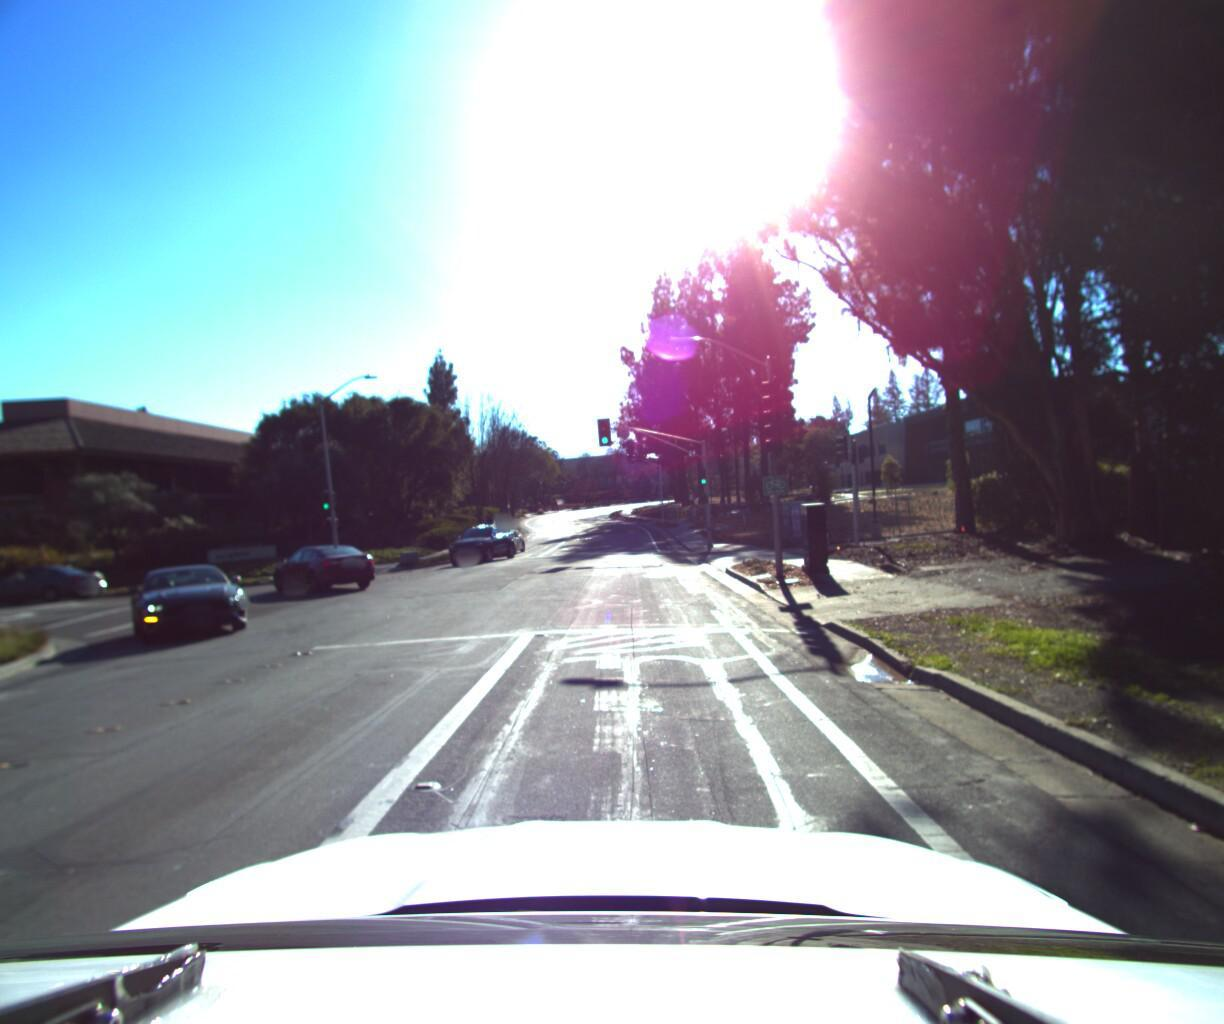car: (139, 558, 257, 655), (261, 532, 389, 593), (0, 558, 118, 609), (440, 522, 522, 569)
